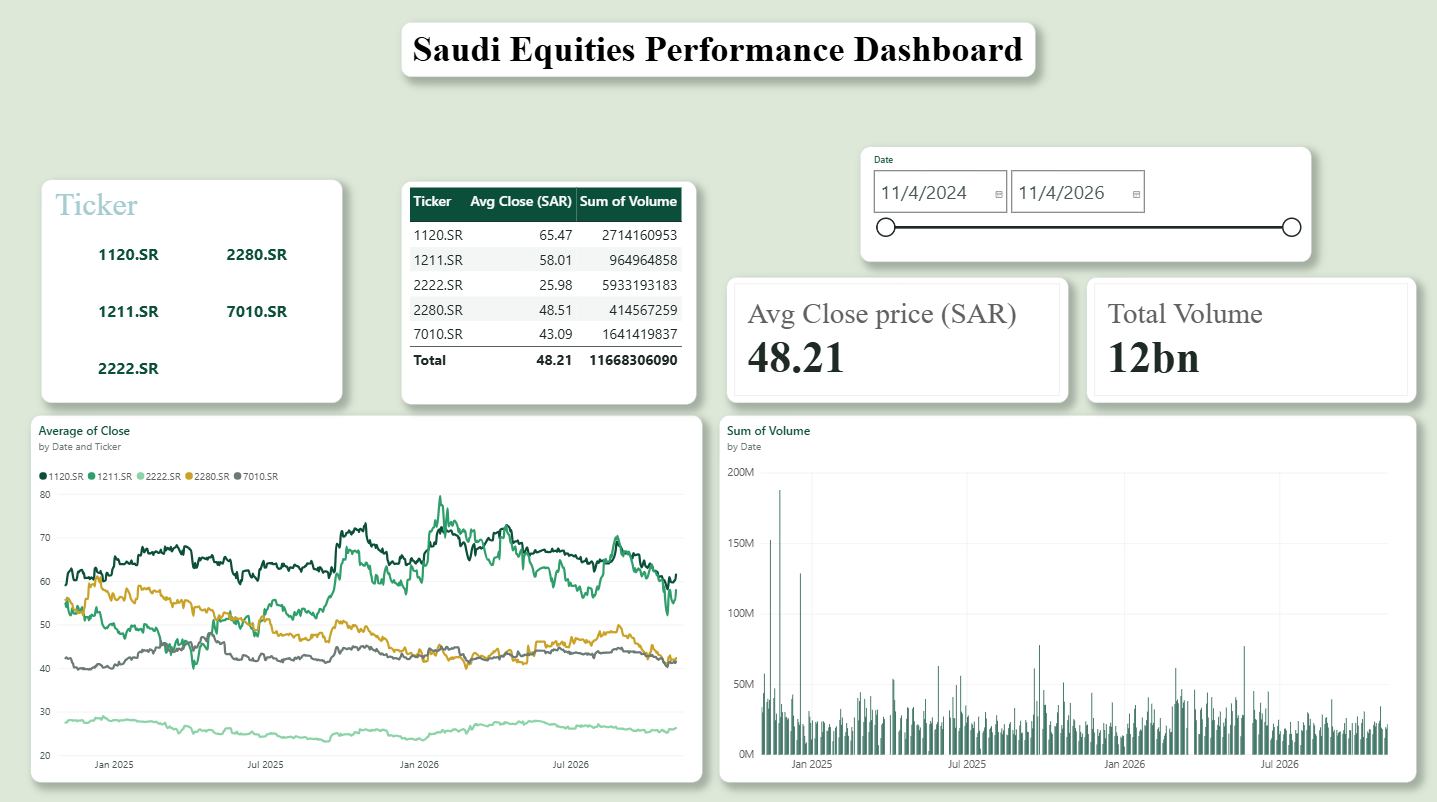

The page's visual inventory and layout, read from the dashboard file:
{"tool":"powerbi","page":{"name":"Page 1","canvas":[1920,1080],"ordinal":0},"visuals":[{"type":"lineChart","fields":{"Category":["saudi_equities.Date"],"Series":["saudi_equities.Ticker"],"Y":["Avg(saudi_equities.Close)"]},"box":[42,556,896,490],"z":0},{"type":"slicer","fields":{"Values":["saudi_equities.Ticker"]},"box":[56,242,402,298],"z":1000},{"type":"clusteredColumnChart","fields":{"Category":["saudi_equities.Date"],"Y":["Sum(saudi_equities.Volume)"]},"box":[960,556,930,490],"z":2000},{"type":"textbox","box":[536,32,846.1,73.4],"z":3000},{"type":"cardVisual","fields":{"Data":["Avg(saudi_equities.Close)"]},"box":[970,372,456,168],"z":4000},{"type":"cardVisual","fields":{"Data":["Sum(saudi_equities.Volume)"]},"box":[1450,372,440,168],"z":5000},{"type":"slicer","fields":{"Values":["saudi_equities.Date"]},"box":[1148,198,602,154],"z":6000},{"type":"tableEx","fields":{"Values":["saudi_equities.Ticker","Avg(saudi_equities.Close)","Sum(saudi_equities.Volume)"]},"box":[536,244,394,298],"z":7000}]}

Visuals, with their boxes in screenshot pixels (x1, y1, x2, y2), scaled from the page's 1920x1080 canvas onto the 1437x802 screenshot:
lineChart - saudi_equities.Date x saudi_equities.Ticker: box=[31, 413, 702, 777]
slicer - saudi_equities.Ticker: box=[42, 180, 343, 401]
clusteredColumnChart - saudi_equities.Date x Sum(saudi_equities.Volume): box=[718, 413, 1415, 777]
textbox: box=[401, 24, 1034, 78]
cardVisual - Avg(saudi_equities.Close): box=[726, 276, 1067, 401]
cardVisual - Sum(saudi_equities.Volume): box=[1085, 276, 1415, 401]
slicer - saudi_equities.Date: box=[859, 147, 1310, 261]
tableEx - saudi_equities.Ticker x Avg(saudi_equities.Close): box=[401, 181, 696, 402]
